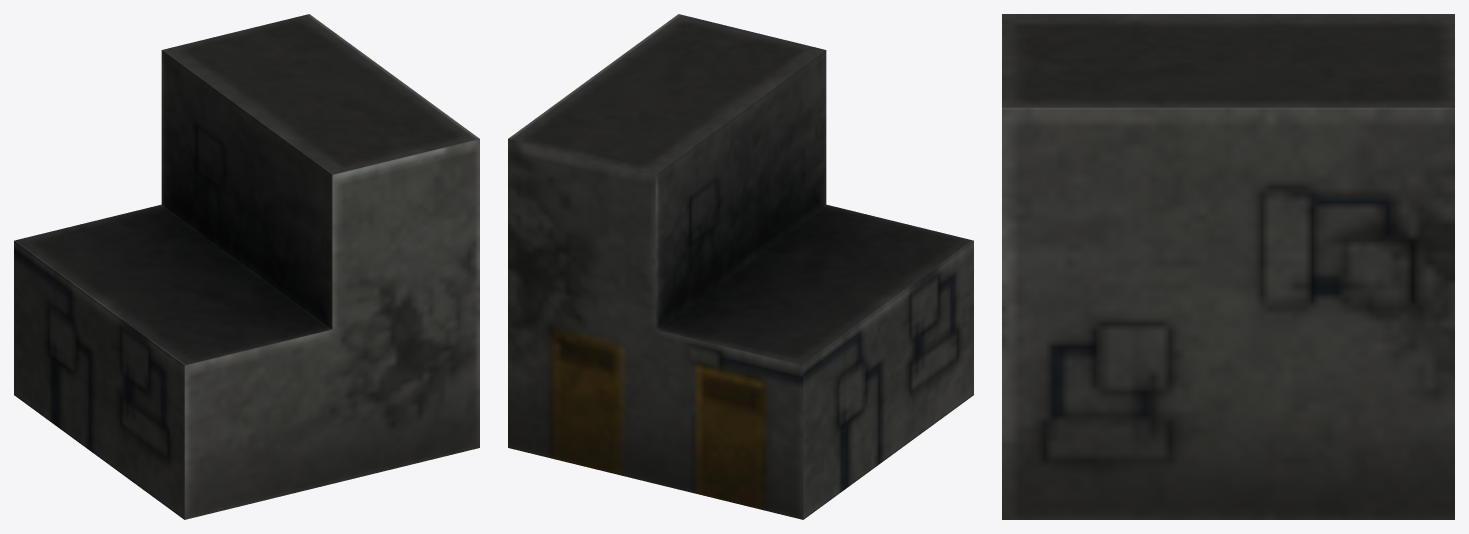
The model's file is Roof_ExitBigPart.FBX.
3 renders of one model, left to right at view 1: azimuth 30°, elevation 25°; view 2: azimuth 150°, elevation 25°; view 3: azimuth 270°, elevation 25°, orthographic. The views are drawn at different scales.
Parts seen in each view (by area): view 1: Roof_ExitBigPart; view 2: Roof_ExitBigPart; view 3: Roof_ExitBigPart.
Boxes of the visible parts, box(x1,y1,x2,y2) form: Roof_ExitBigPart: box(14, 14, 479, 519); Roof_ExitBigPart: box(508, 14, 973, 519); Roof_ExitBigPart: box(1002, 14, 1454, 519).
Size of the model in its own units: 8 by 8 by 8.
